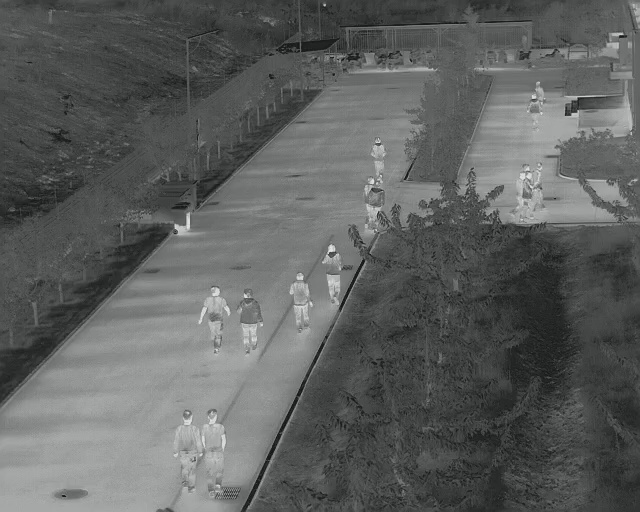person: (173, 409, 202, 493), (198, 285, 230, 355), (236, 288, 265, 356), (203, 410, 226, 494), (289, 270, 313, 332), (321, 243, 344, 303), (364, 176, 385, 231), (513, 170, 533, 217), (532, 159, 546, 212), (527, 92, 545, 133), (369, 137, 386, 180)
